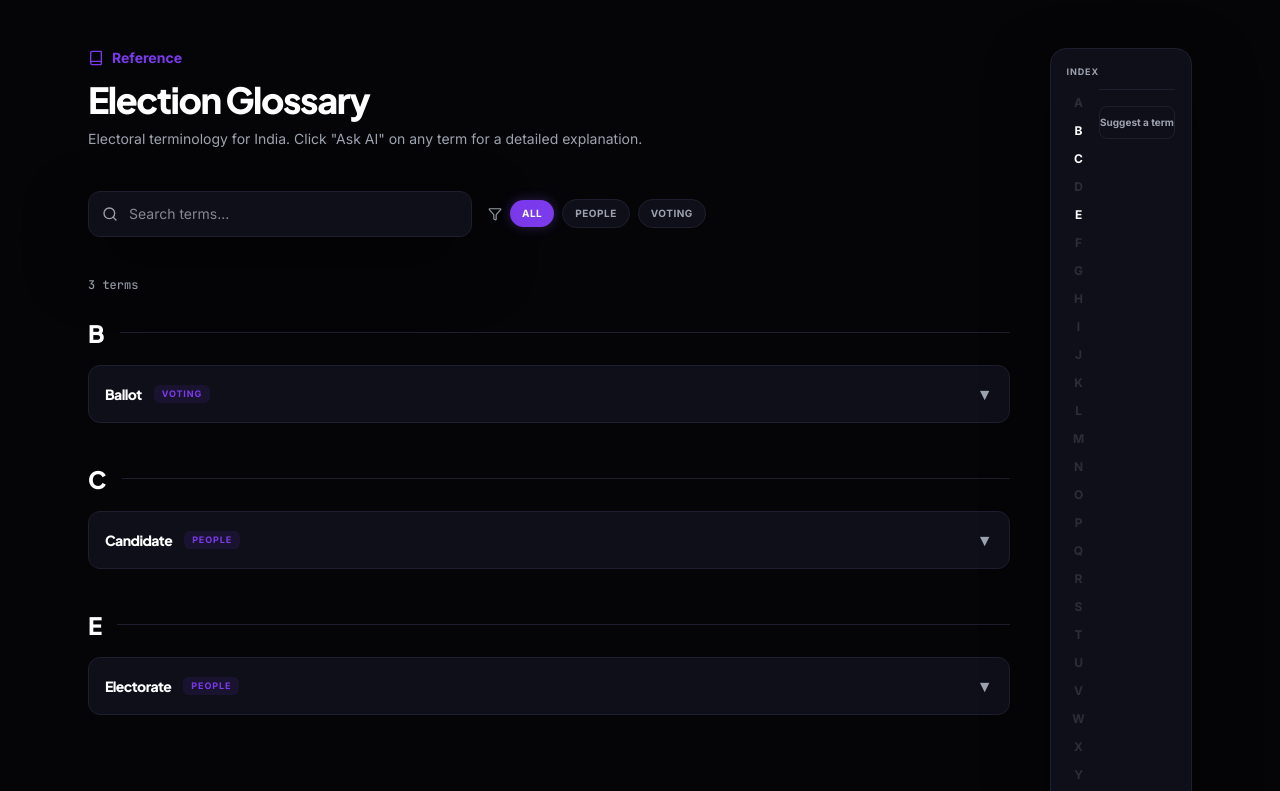
Scenario: Glossary Page › filters by category
Find the filter button specifically by checking for rounded-full class
Click the button "People" at point(596, 214), box [562,199,630,228]
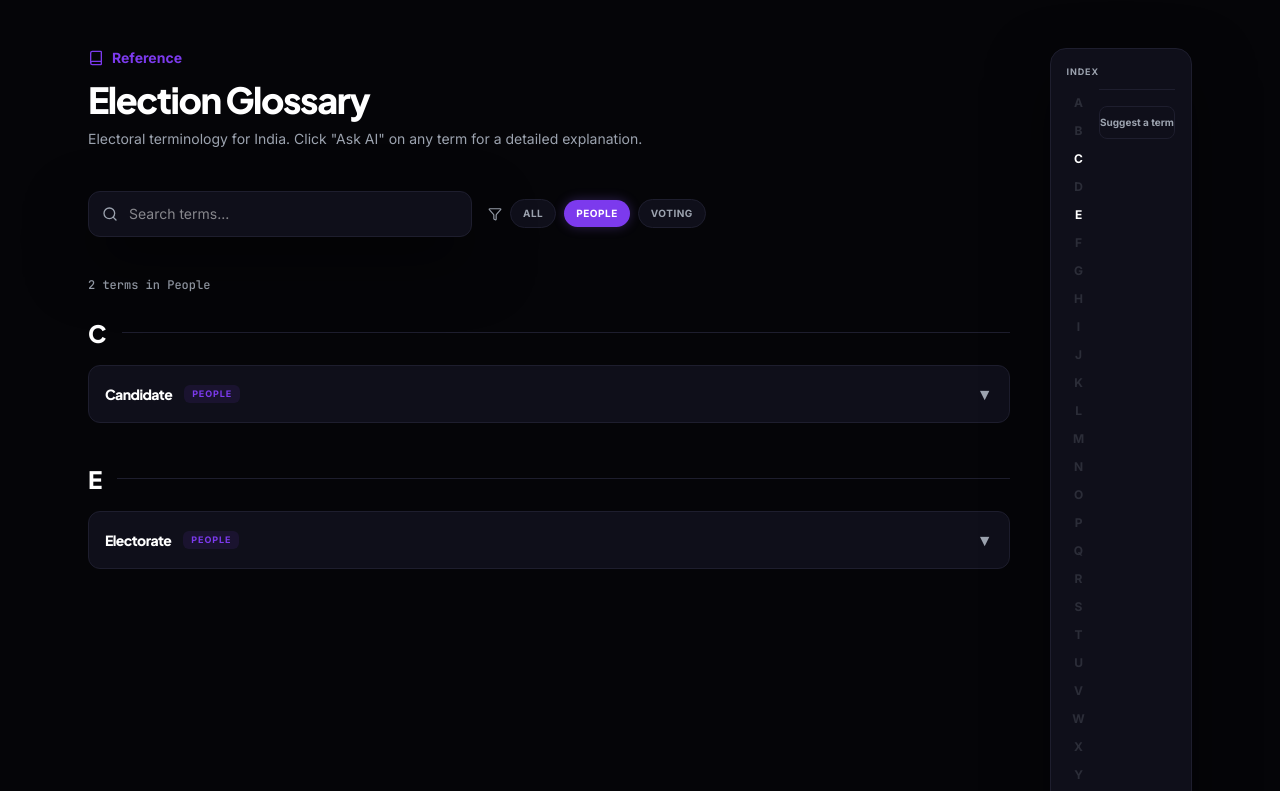
Check: the text "2 terms in People" is shown, box [88,277,210,293]
